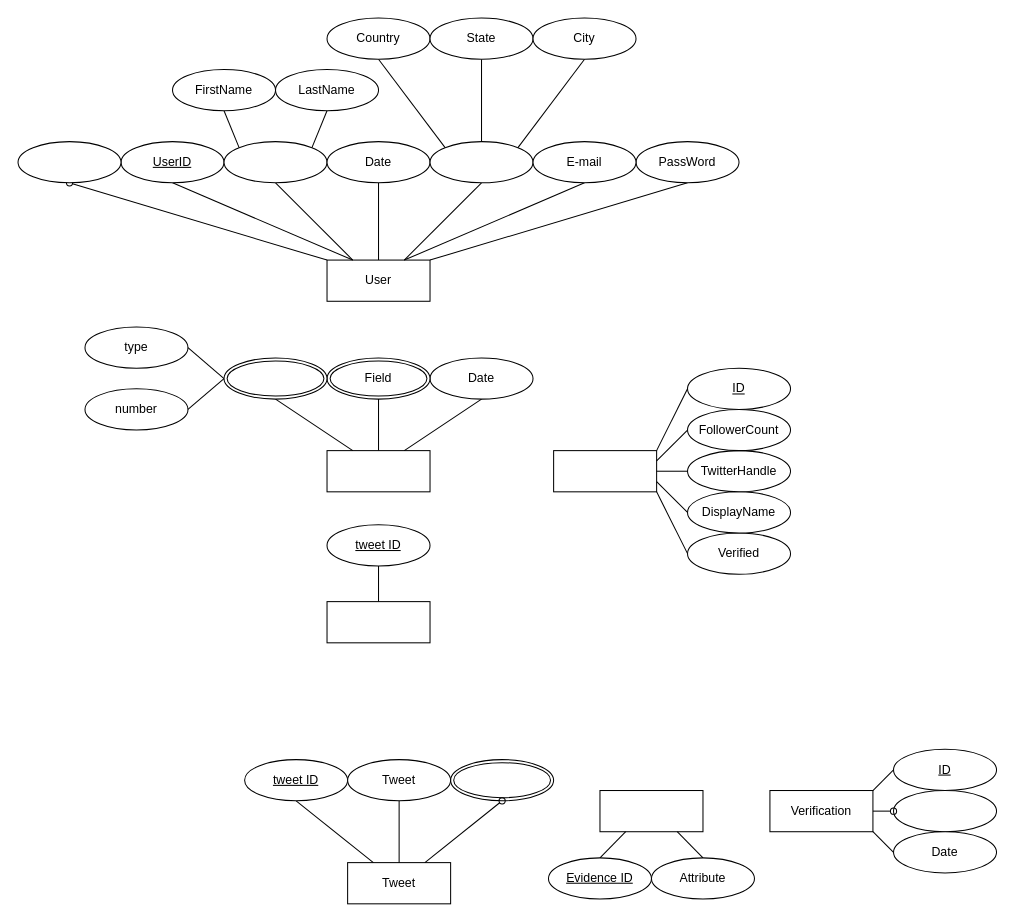
This 1015x922 diagram has some shape labels left out. Here are the shapes that lost their labels. From the top down, the centre of each, then its label:
At [69,162]: "URL".
At [275,162]: "Name".
At [481,162]: "Address".
At [275,378]: "PhoneNumber".
At [378,471]: "Checker".
At [605,471]: "Tweeter".
At [378,622]: "RawTweet".
At [502,780]: "HashTag".
At [651,810]: "Evidence".
At [944,810]: "Comment".
